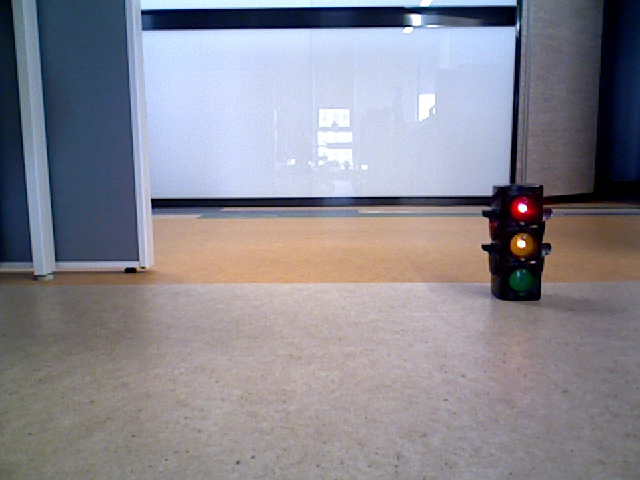red: (491, 187, 539, 299)
